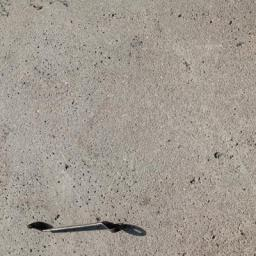FOD: (29, 219, 127, 238)
